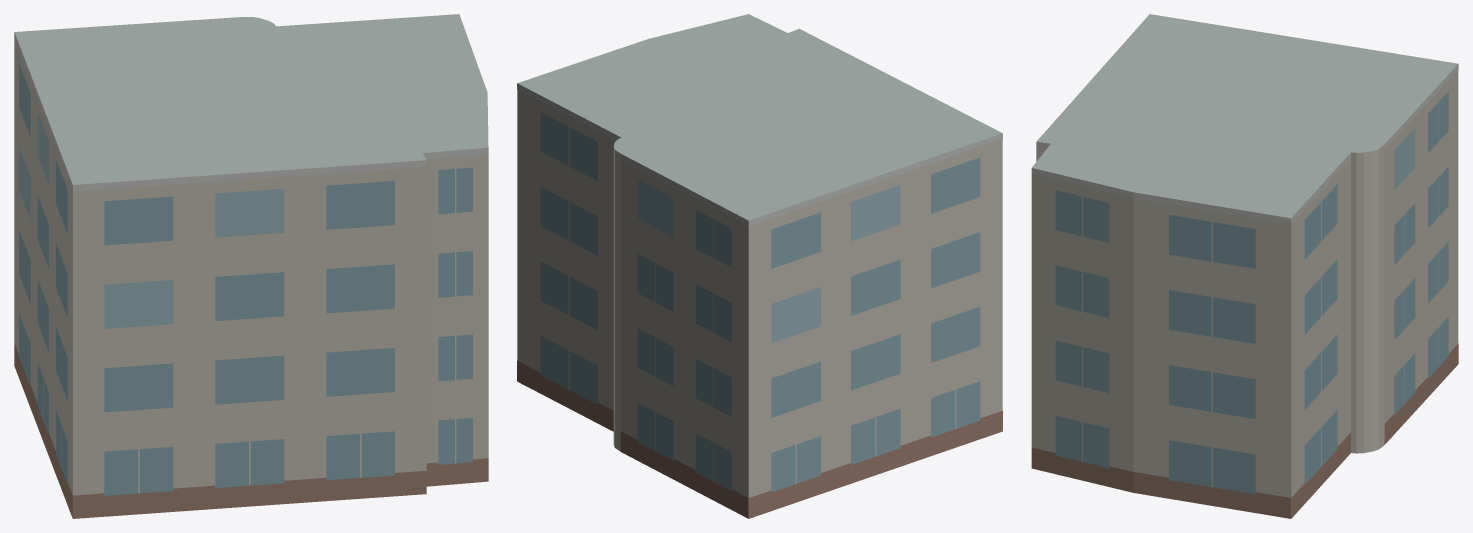
Rendered from survey-upis-33022859.glb.
3 views of the same model, side by side, from view 1: azimuth 30°, elevation 25°; view 2: azimuth 150°, elevation 25°; view 3: azimuth 270°, elevation 25° (orthographic). The views are drawn at different scales.
Visible parts, largest first — view 1: survey-upis-33022859.tmp; view 2: survey-upis-33022859.tmp; view 3: survey-upis-33022859.tmp.
Part boxes in pixels (box(x1,y1,x2,y2)): survey-upis-33022859.tmp: box(14, 14, 488, 518); survey-upis-33022859.tmp: box(517, 14, 1002, 518); survey-upis-33022859.tmp: box(1031, 14, 1458, 518).
Bounding box in the file's own units: 17.79 × 12.2 × 15.71.
